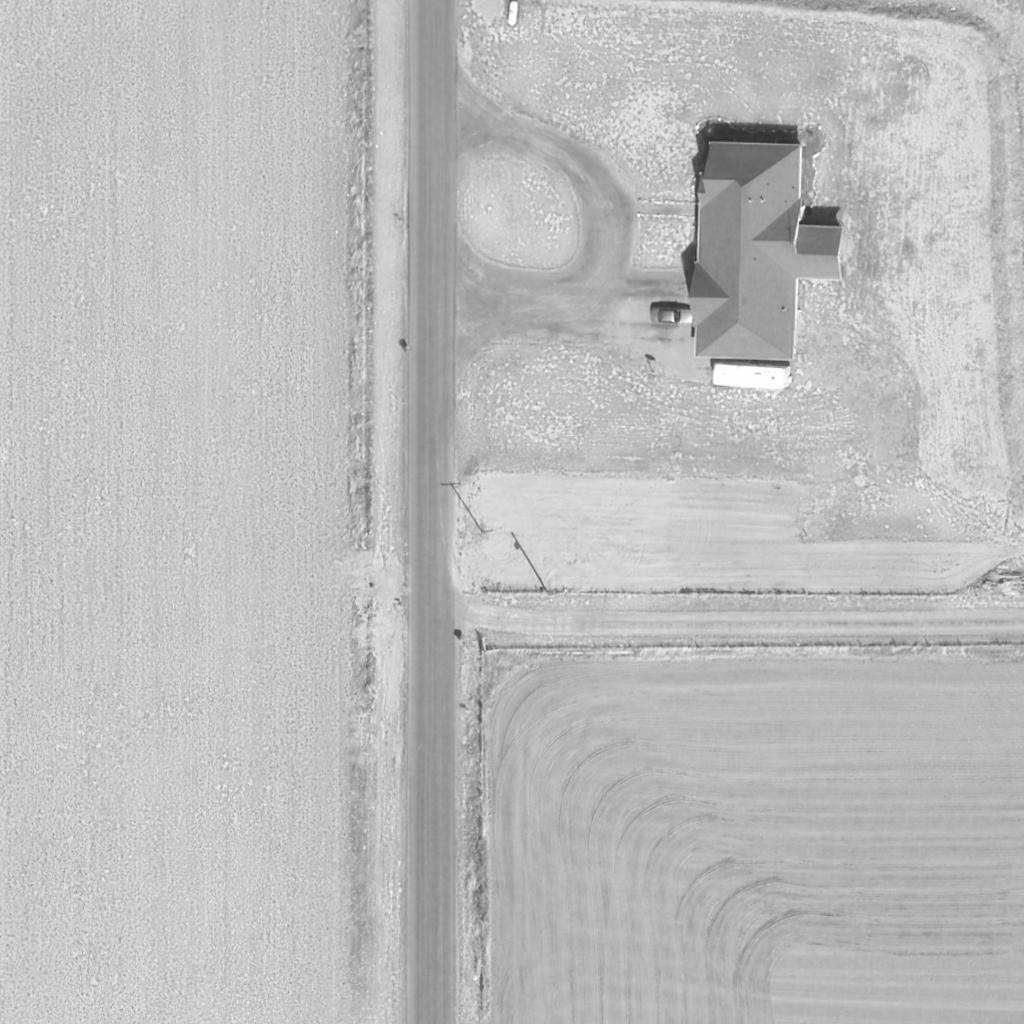vehicle: (646, 308, 698, 328)
